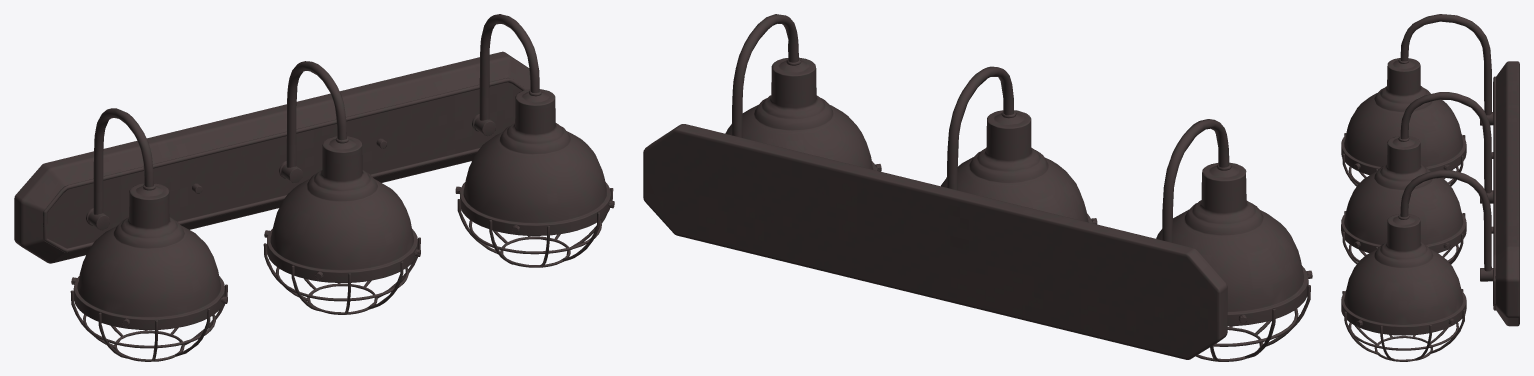
The model's file is abo-B082JHX2YP.glb.
3 renders of one model, left to right at view 1: azimuth 30°, elevation 25°; view 2: azimuth 150°, elevation 25°; view 3: azimuth 270°, elevation 25°, orthographic. The views are drawn at different scales.
Bounding box in the file's own units: 0.634 × 0.2537 × 0.229.
Materials: 1 (1 with a texture image).
